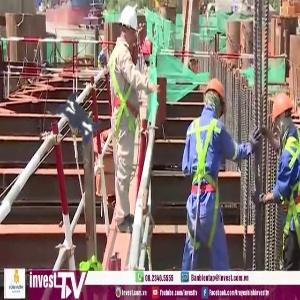drone: (11, 58, 141, 188)
